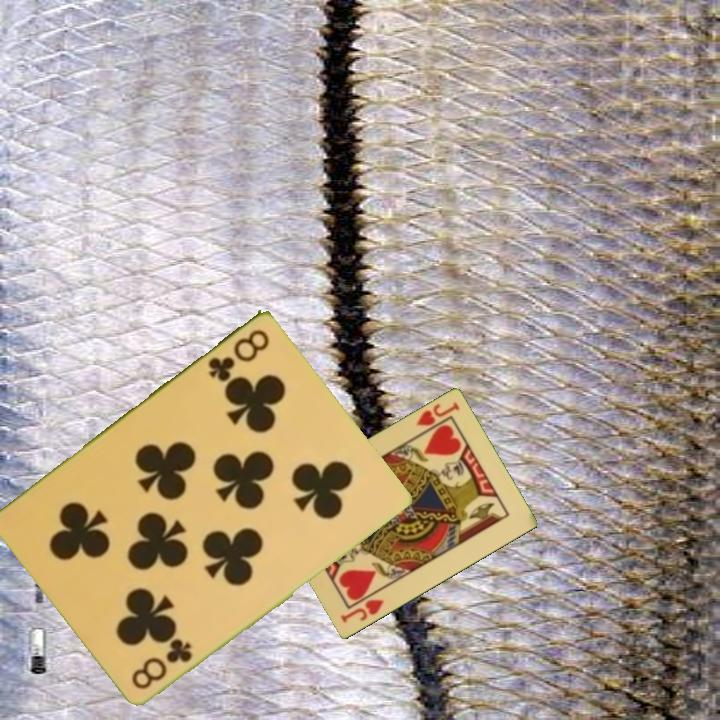8c: (204, 325, 273, 384), (128, 635, 196, 692)
Jh: (412, 398, 463, 429), (337, 595, 387, 625)
